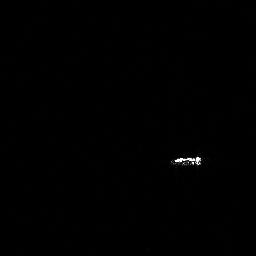ship: (174, 155, 201, 166)
